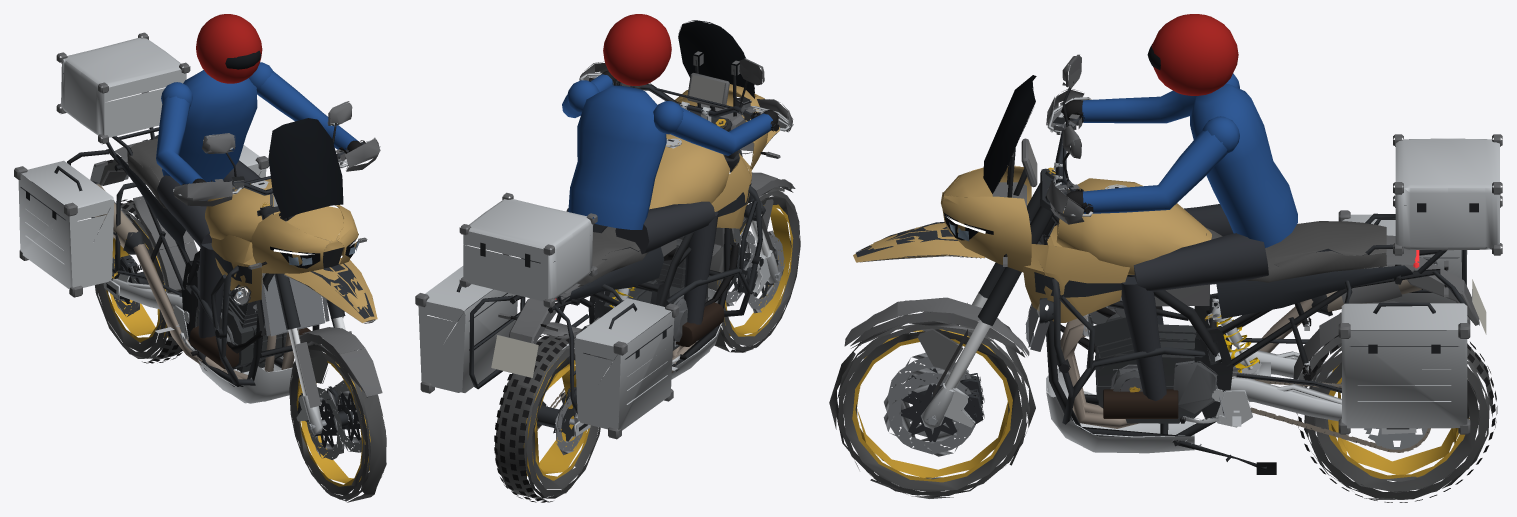
The model's file is vb_adventure.glb.
3 renders of one model, left to right at view 1: azimuth 30°, elevation 25°; view 2: azimuth 150°, elevation 25°; view 3: azimuth 270°, elevation 25°, orthographic. The views are drawn at different scales.
Visible parts, largest first — view 1: body, rider_torso, fork, wheel_front, wheel_rear, rider_legs, rider_head; view 2: body, rider_torso, wheel_rear, wheel_front, rider_legs, fork, rider_head; view 3: body, rider_torso, wheel_front, fork, wheel_rear, rider_legs, rider_head.
Part boxes in pixels (x1=…): body: x1=14, y1=32, x2=377, y2=403; rider_torso: x1=156, y1=62, x2=362, y2=185; fork: x1=173, y1=101, x2=382, y2=435; wheel_front: x1=289, y1=342, x2=386, y2=502; wheel_rear: x1=95, y1=199, x2=188, y2=363; rider_legs: x1=157, y1=160, x2=310, y2=368; rider_head: x1=196, y1=14, x2=262, y2=83; body: x1=415, y1=20, x2=780, y2=439; rider_torso: x1=562, y1=70, x2=778, y2=229; wheel_rear: x1=494, y1=334, x2=600, y2=502; wheel_front: x1=707, y1=187, x2=800, y2=352; rider_legs: x1=566, y1=201, x2=724, y2=346; fork: x1=579, y1=58, x2=795, y2=294; rider_head: x1=603, y1=14, x2=671, y2=85; body: x1=853, y1=75, x2=1502, y2=474; rider_torso: x1=1061, y1=73, x2=1297, y2=247; wheel_front: x1=829, y1=312, x2=1035, y2=498; fork: x1=844, y1=54, x2=1093, y2=428; wheel_rear: x1=1296, y1=335, x2=1497, y2=502; rider_legs: x1=1103, y1=204, x2=1268, y2=418; rider_head: x1=1147, y1=14, x2=1238, y2=95.
Size of the model in its own units: 0.9497 by 1.77 by 2.25.
